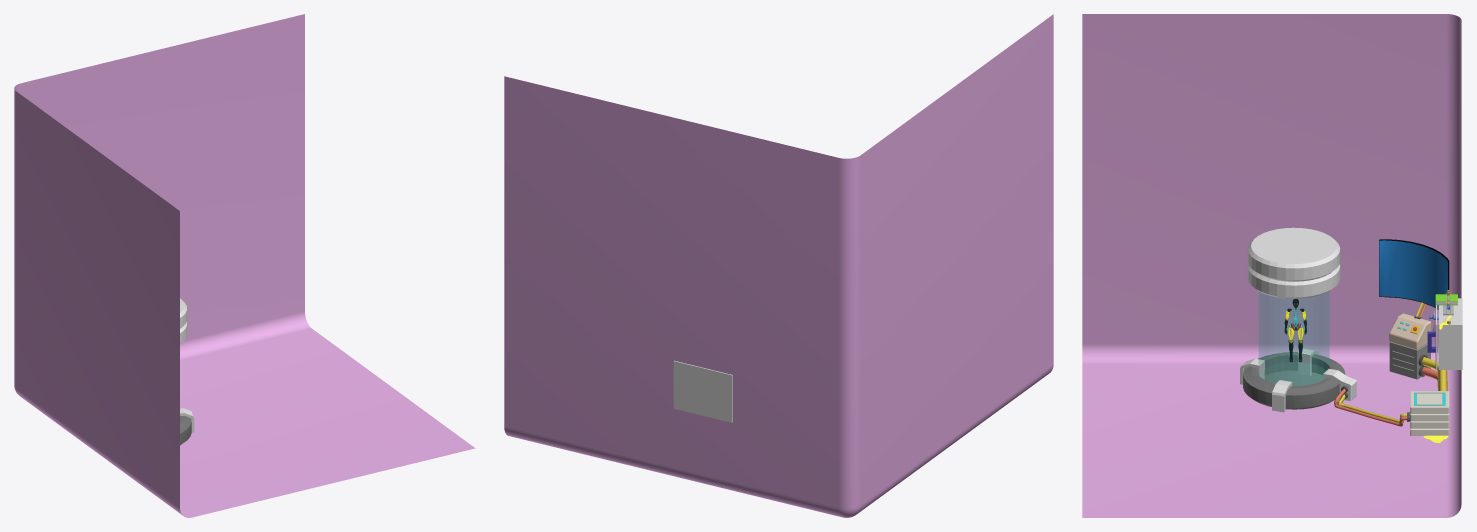
Rendered from seconsEsMod4.glb.
The picture shows the model from 3 angles, left to right: view 1: azimuth 30°, elevation 25°; view 2: azimuth 150°, elevation 25°; view 3: azimuth 270°, elevation 25°; orthographic projection. The views are drawn at different scales.
Visible parts, largest first — view 1: paredes, base; view 2: paredes, casillero; view 3: paredes, base, cupula, smart, casillero, basecontrol, control, energy, robot.
Part boxes in pixels (left/top/right/bottom): paredes: left=14, top=14, right=475, bottom=517; base: left=180, top=298, right=194, bottom=445; paredes: left=504, top=14, right=1053, bottom=517; casillero: left=673, top=360, right=732, bottom=422; paredes: left=1082, top=14, right=1461, bottom=517; base: left=1240, top=227, right=1356, bottom=412; cupula: left=1259, top=291, right=1329, bottom=385; smart: left=1379, top=239, right=1449, bottom=309; casillero: left=1427, top=298, right=1462, bottom=369; basecontrol: left=1389, top=341, right=1430, bottom=379; control: left=1389, top=313, right=1431, bottom=349; energy: left=1410, top=391, right=1449, bottom=413; robot: left=1284, top=299, right=1306, bottom=362.
Size of the model in its own units: 10.06 by 10.12 by 10.09.
36 materials, 1 textured.
